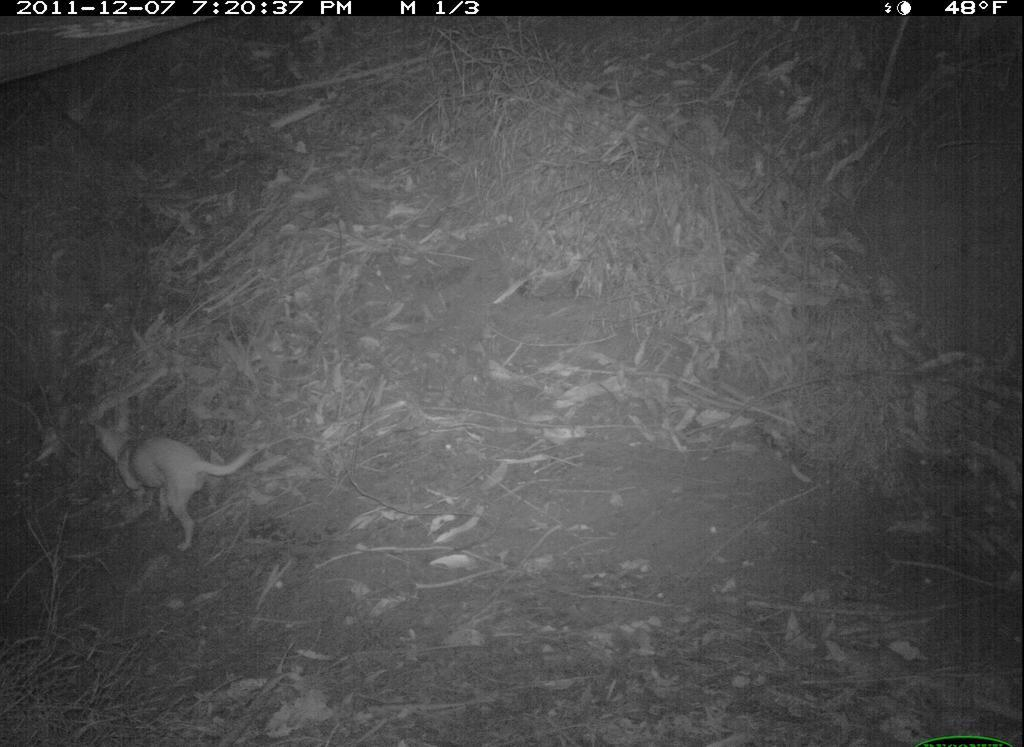dog: (72, 410, 269, 546)
